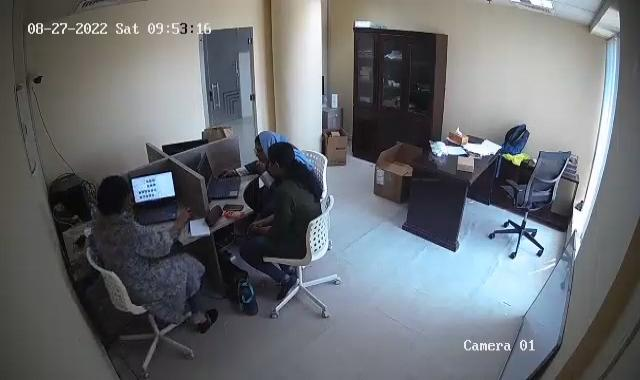no_hairnet: (263, 140, 305, 176), (95, 175, 129, 219), (250, 126, 277, 157)
